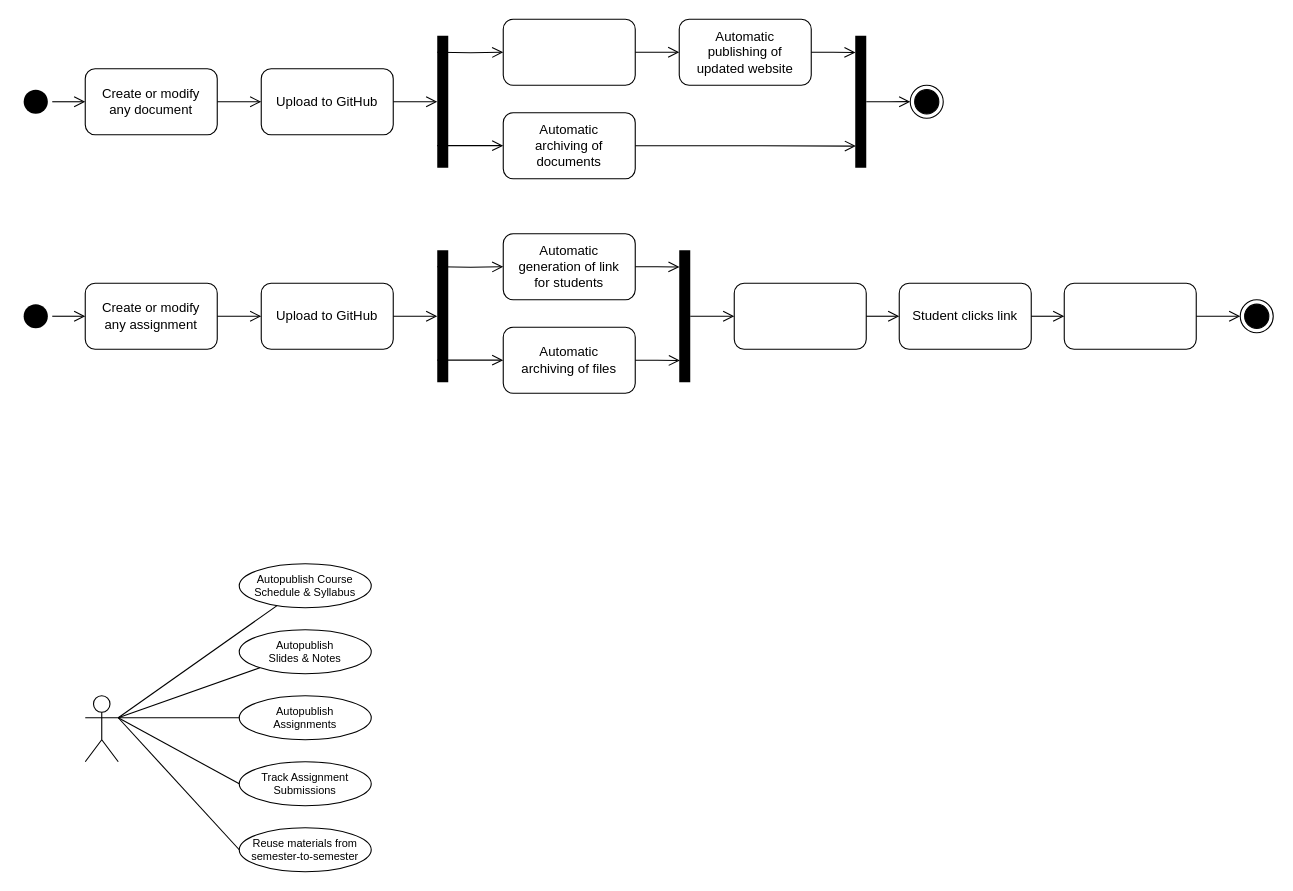
The diagram is 1293 pixels wide and 891 high, and some of its shapes have lost their labels. The centre of each missing label's shape, as x and y in pixels:
"Automatic conversion to website code" belongs at (568,51).
"Generates student copy of assignment" belongs at (1129,315).
"Instructor" belongs at (101,728).
"Share link with students" belongs at (799,315).
